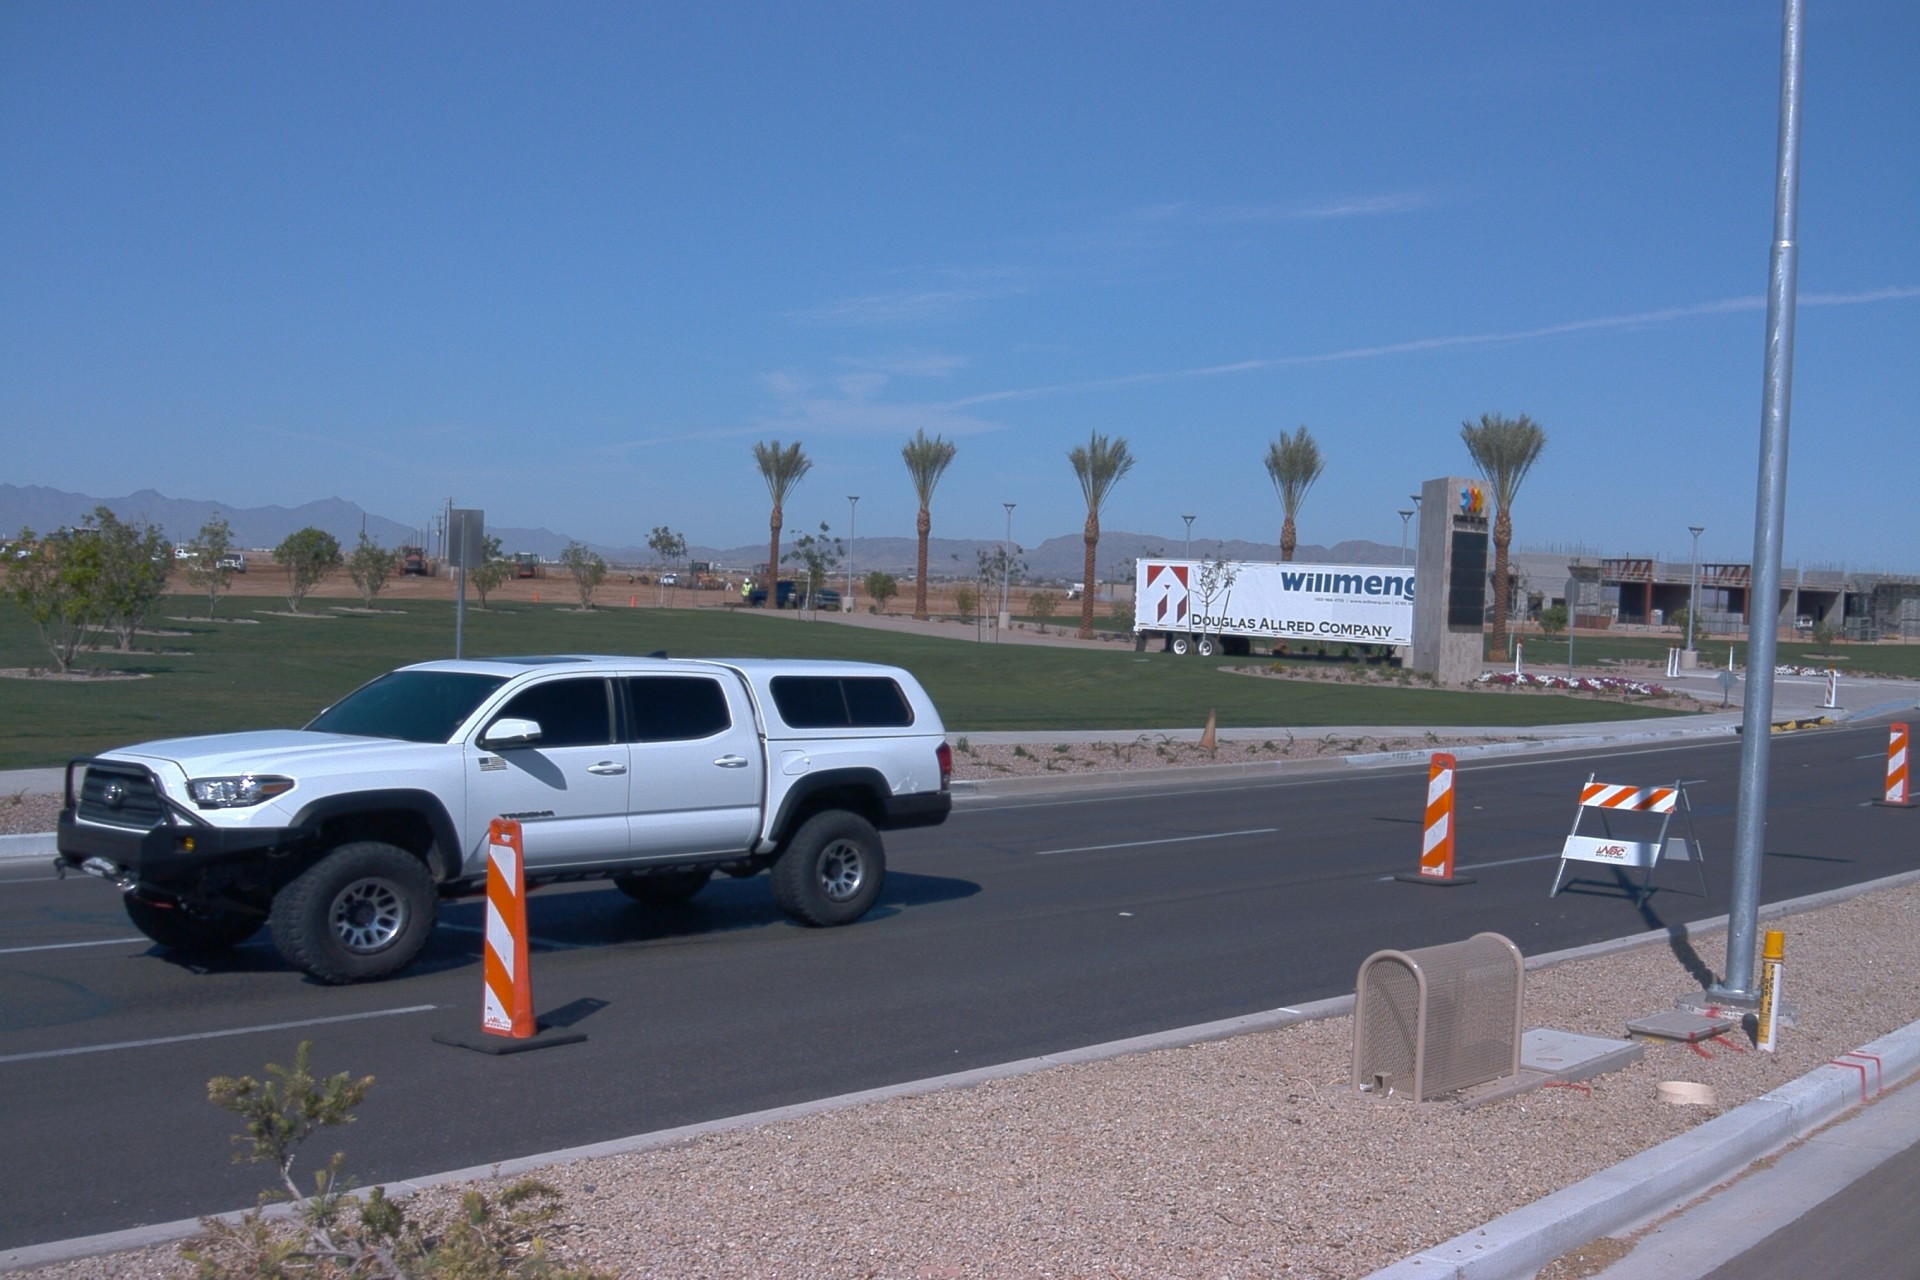TYPE_PEDESTRIAN: (741, 577, 754, 604), (652, 573, 660, 586), (627, 573, 633, 586)
TYPE_VEHICLE: (53, 650, 956, 990), (1130, 550, 1413, 655), (747, 573, 839, 607), (396, 548, 439, 581), (503, 550, 547, 581), (1061, 579, 1097, 598), (213, 555, 247, 575), (1485, 563, 1521, 579), (0, 539, 32, 556), (168, 548, 199, 561), (660, 575, 679, 589)
